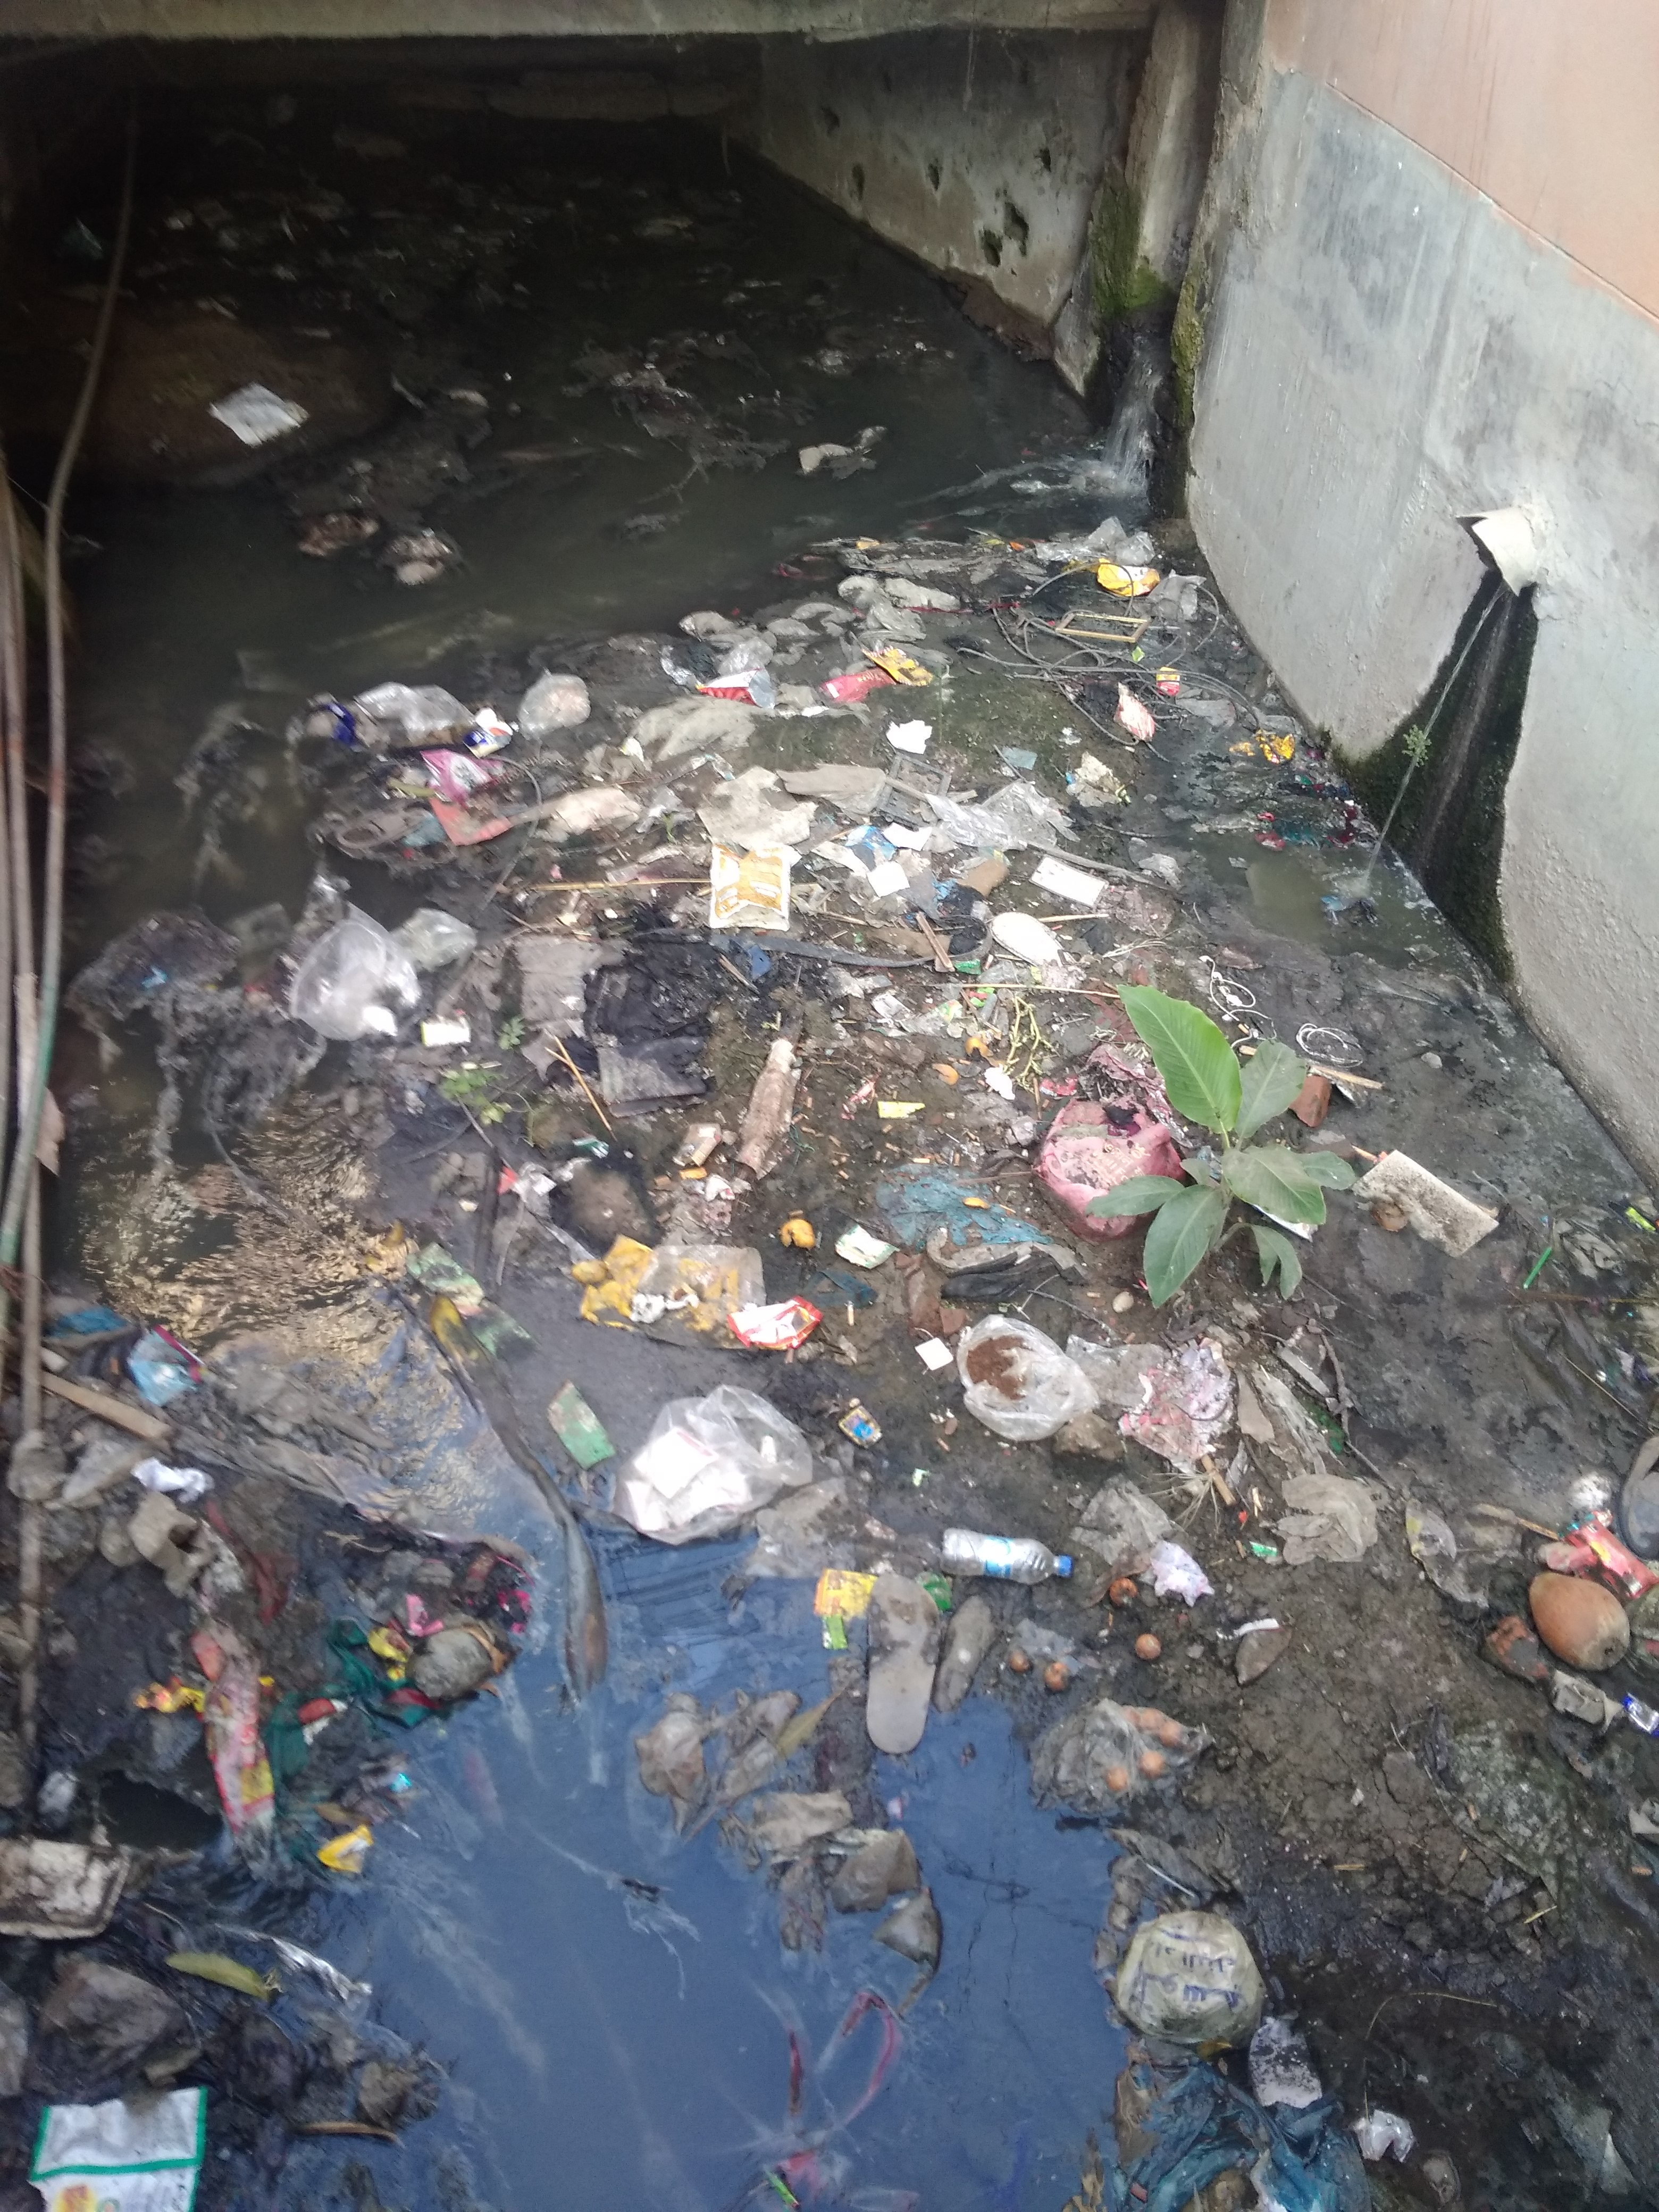Plastic Bottle: (939, 1526, 1072, 1585)
